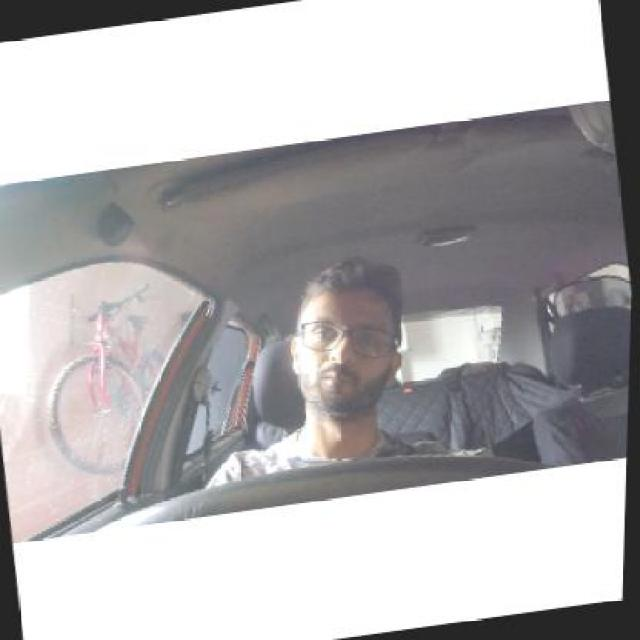LeftRight: (286, 257, 410, 423)
